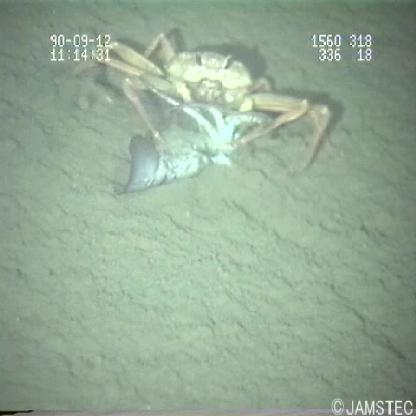Bio: (61, 30, 339, 195)
